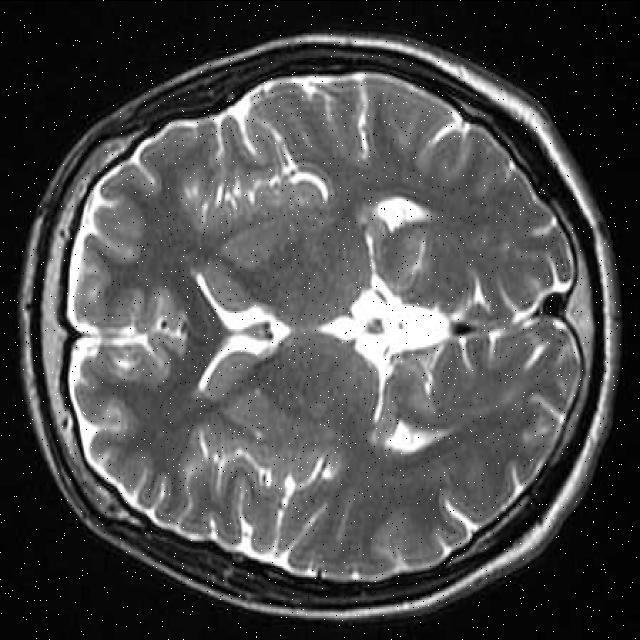No_Tumor: (21, 35, 619, 618)
